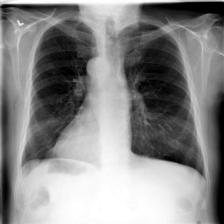normal: (15, 13, 210, 182)
